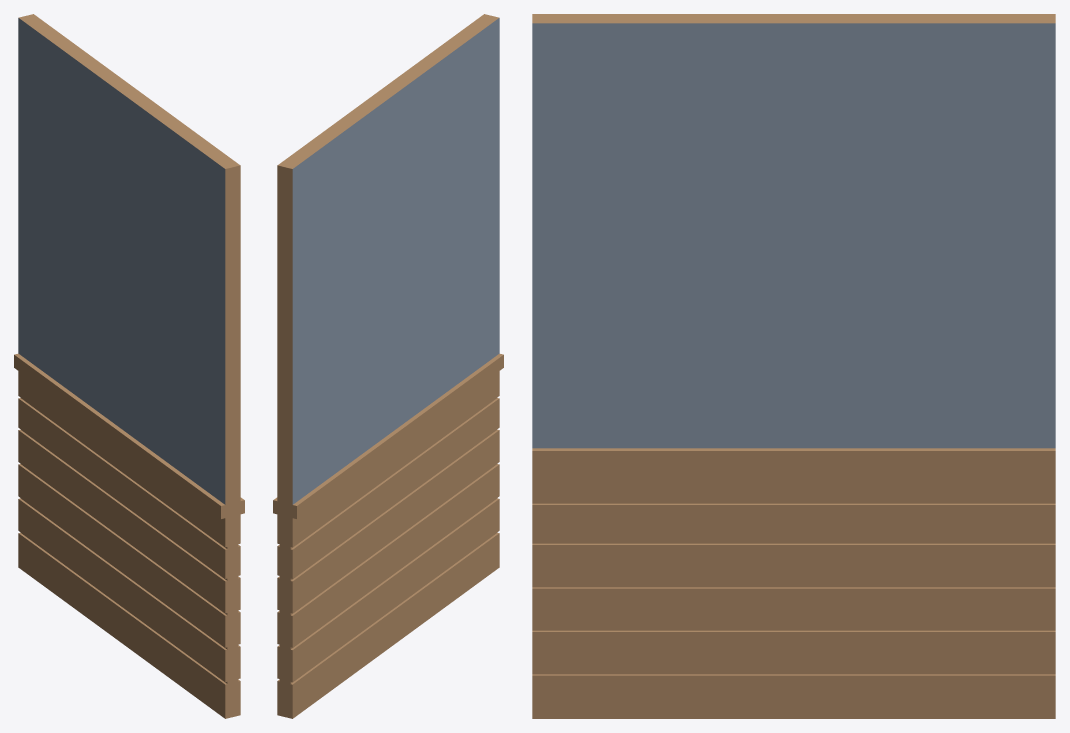
Rendered from int-small-wall.glb.
The picture shows the model from 3 angles, left to right: view 1: azimuth 30°, elevation 25°; view 2: azimuth 150°, elevation 25°; view 3: azimuth 270°, elevation 25°; orthographic projection. The views are drawn at different scales.
Parts seen in each view (by area): view 1: Int. Small Wall (×2); view 2: Int. Small Wall (×2); view 3: Int. Small Wall (×2).
Part boxes in pixels (x1,y1,x2,y2): Int. Small Wall (×2): [14, 14, 244, 718]; Int. Small Wall (×2): [273, 14, 503, 718]; Int. Small Wall (×2): [532, 14, 1055, 718].
Size of the model in its own units: 0.1 by 2.2 by 1.5.
